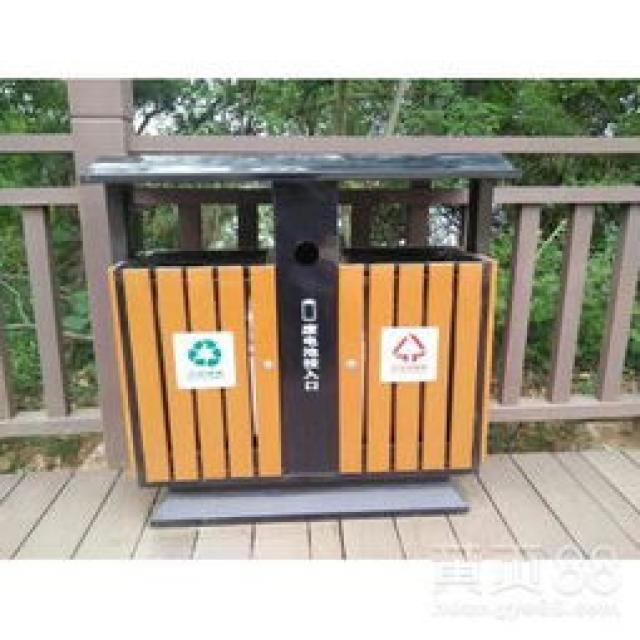garbage_bin: (78, 148, 514, 527)
